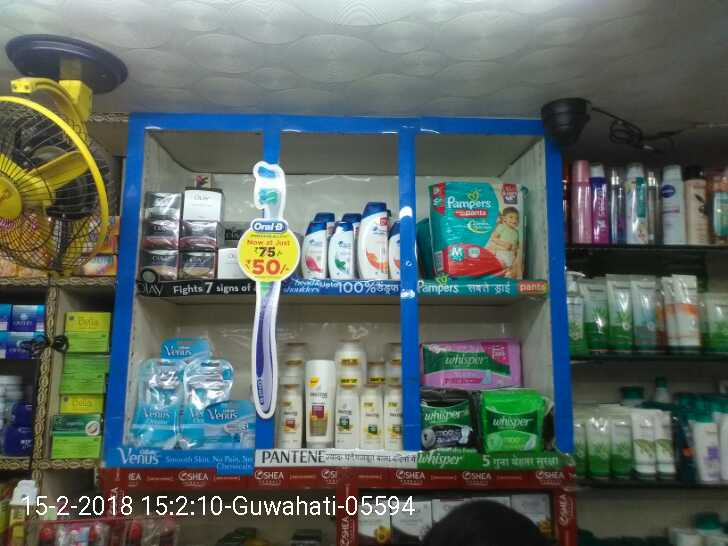venus: (135, 360, 185, 442), (203, 404, 256, 446), (185, 360, 203, 446)
